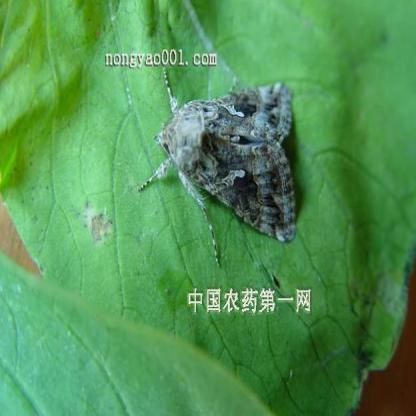armyworm: (144, 72, 304, 256)
